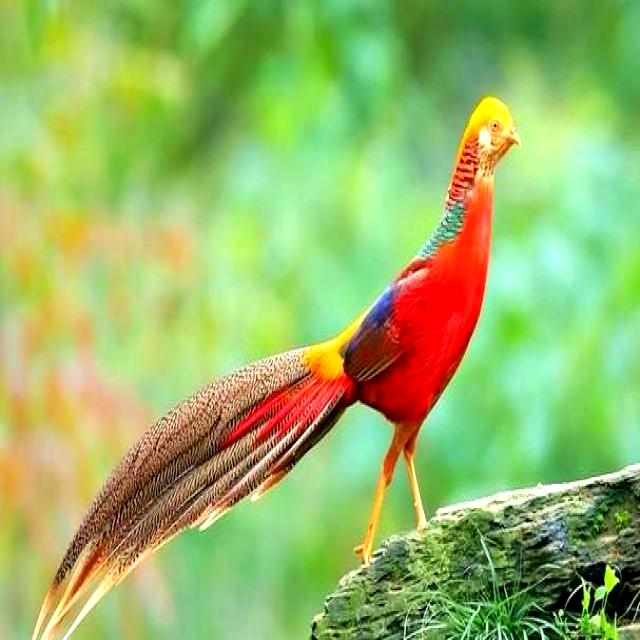Chrysolophus pictus feather: (32, 350, 357, 640)
